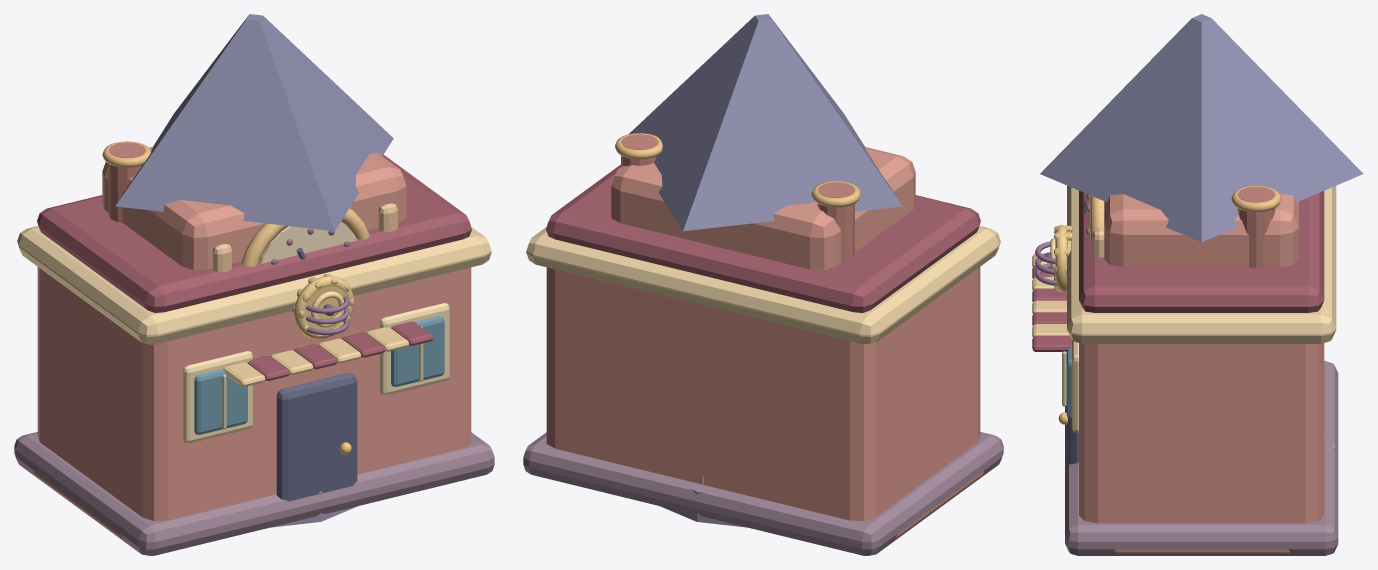
File: inventores.glb
3 renders of one model, left to right at view 1: azimuth 30°, elevation 25°; view 2: azimuth 150°, elevation 25°; view 3: azimuth 270°, elevation 25°, orthographic.
Parts seen in each view (by area): view 1: Cube.030, Cone, Cube.032, Cube.029, Cube.031, Cube.001, Cube.039, Cube.034, Cube.033, Cube.050, Cone.001, Cone.011 (+6 smaller); view 2: Cube.030, Cone, Cube.032, Cube.029, Cube.031, Cube.001, Cone.011, Torus.027; view 3: Cube.030, Cone, Cube.032, Cube.029, Cube.031, Cube.001, Cone.011, Cube.050, Cube.149, Torus.029, Torus.027, Cube.033 (+3 smaller).
Part boxes in pixels (x1,y1,x2,y2): Cube.030: [37, 267, 471, 521]; Cone: [115, 14, 393, 231]; Cube.032: [37, 154, 471, 380]; Cube.029: [14, 432, 494, 555]; Cube.031: [17, 226, 491, 344]; Cube.001: [102, 147, 406, 270]; Cube.039: [276, 373, 357, 501]; Cube.034: [194, 316, 444, 434]; Cube.033: [183, 303, 449, 443]; Cube.050: [224, 327, 409, 386]; Cone.001: [260, 222, 357, 263]; Cone.011: [108, 142, 145, 222]; Cube.030: [546, 267, 980, 521]; Cone: [629, 14, 902, 231]; Cube.032: [546, 164, 980, 312]; Cube.029: [523, 432, 1003, 555]; Cube.031: [526, 226, 1000, 344]; Cube.001: [611, 147, 915, 270]; Cone.011: [621, 134, 854, 262]; Torus.027: [615, 133, 861, 207]; Cube.030: [1079, 343, 1324, 523]; Cone: [1040, 14, 1363, 242]; Cube.032: [1032, 190, 1324, 351]; Cube.029: [1065, 361, 1338, 555]; Cube.031: [1067, 185, 1336, 343]; Cube.001: [1104, 194, 1298, 267]; Cone.011: [1237, 186, 1275, 267]; Cube.050: [1032, 253, 1069, 337]; Cube.149: [1113, 549, 1289, 553]; Torus.029: [1055, 224, 1067, 292]; Torus.027: [1231, 185, 1281, 212]; Cube.033: [1072, 340, 1078, 432].
Size of the model in its own units: 4.15 by 5.09 by 3.34.
